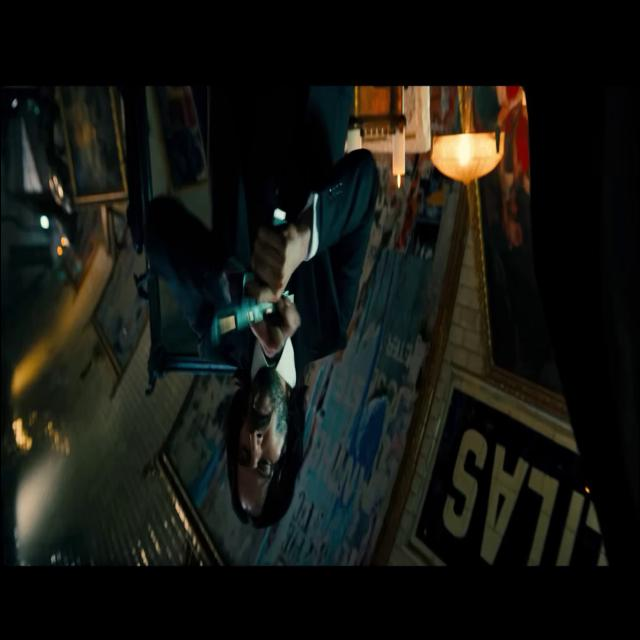weapons: (194, 190, 302, 352)
